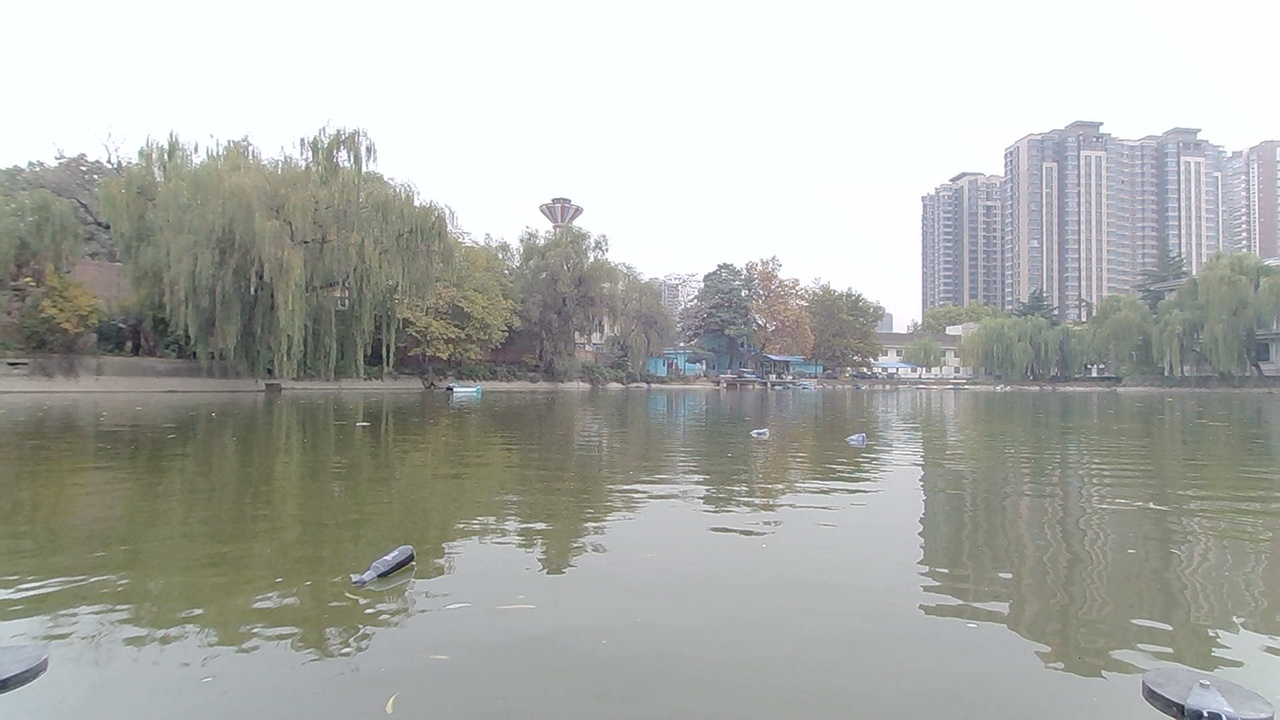bottle: (349, 543, 428, 593), (740, 416, 779, 442), (843, 432, 876, 449)
